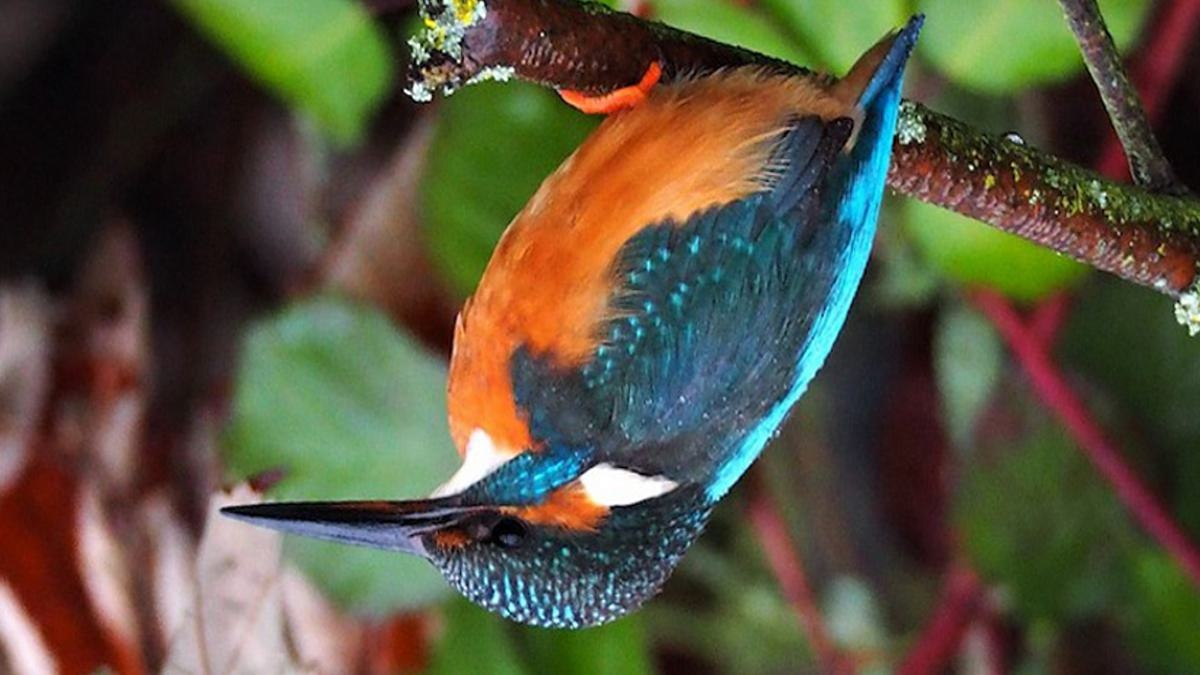kingfisher: (217, 5, 944, 645)
